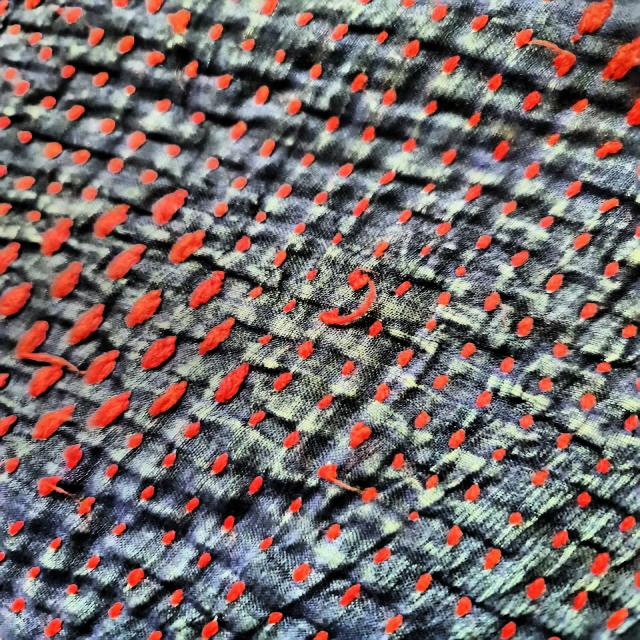Stitch: (312, 258, 407, 346), (12, 338, 87, 388)
